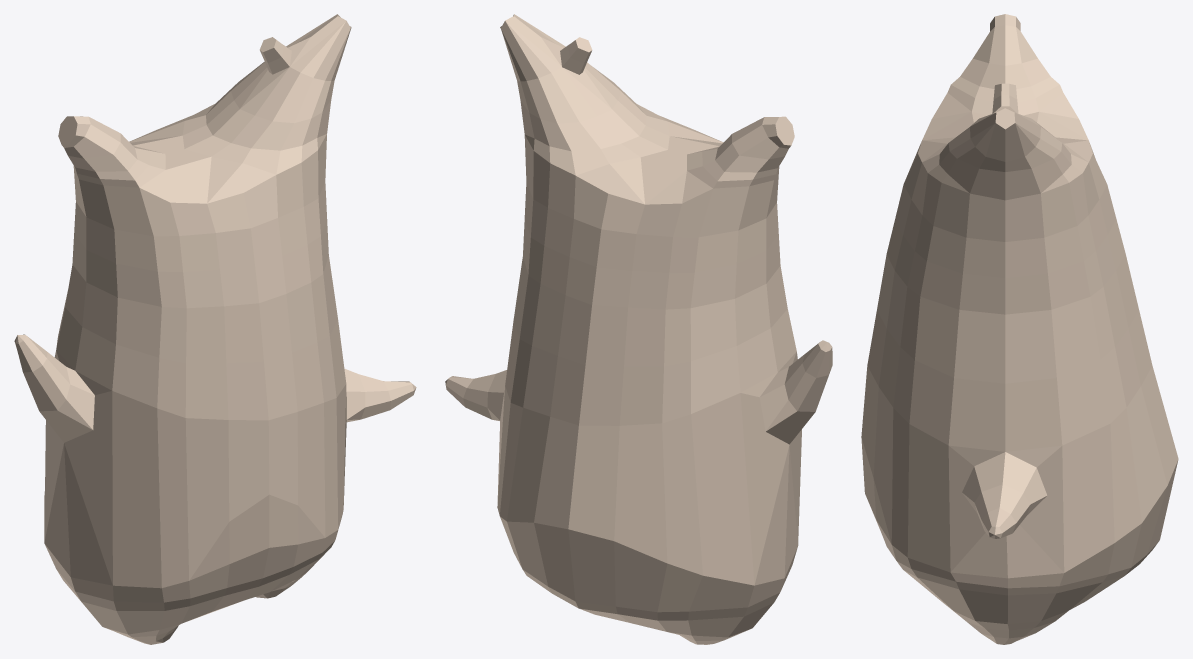
File: frame_0056.obj
3 views of the same model, side by side, from view 1: azimuth 30°, elevation 25°; view 2: azimuth 150°, elevation 25°; view 3: azimuth 270°, elevation 25° (orthographic).
Visible parts, largest first — view 1: korok; view 2: korok; view 3: korok.
Part boxes in pixels (x1,y1,x2,y2): korok: (14, 14, 416, 644); korok: (445, 14, 832, 644); korok: (861, 14, 1178, 644).
Size of the model in its own units: 1.54 by 2.18 by 1.07.
